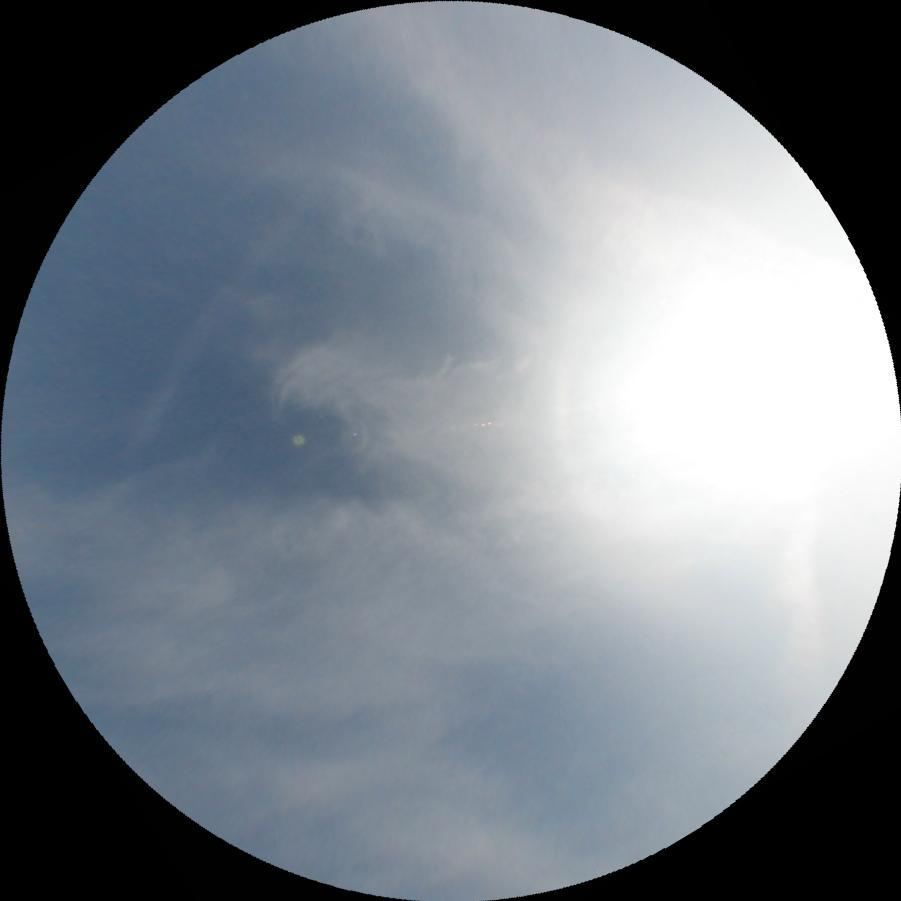contrail veryold: (123, 303, 220, 450), (778, 520, 826, 701)
sun: (591, 252, 859, 519)
